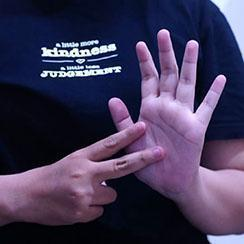N: (0, 12, 231, 230)
